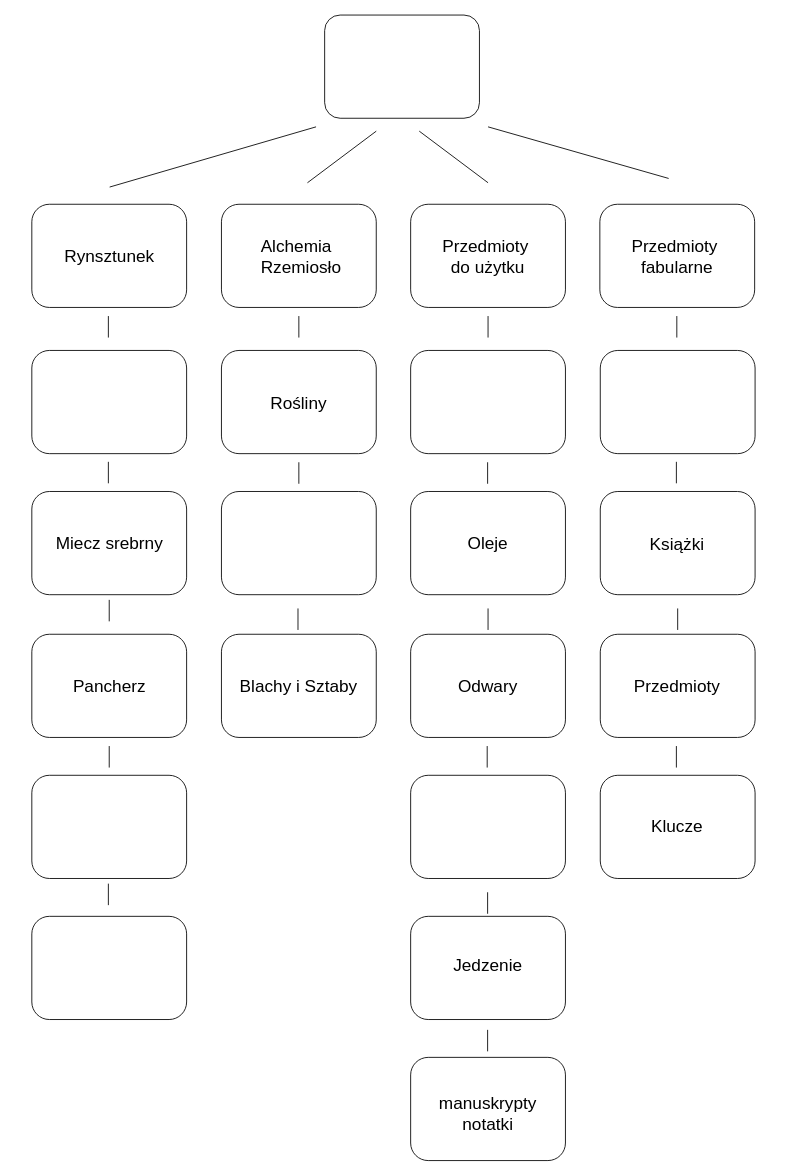
Some shapes in this 787 by 1176 pixel diagram are drawn without their labels. The shapes that lost their labels are listed below. From the top down, each one's centre as x and y in pixels, then its label:
At point (401, 66): "Witcher 3 Ekwipunek".
At point (109, 402): "Broń Stalowa".
At point (487, 402): "Eliksiry".
At point (677, 402): "Notatki".
At point (298, 543): "Fragmenty Potworów".
At point (109, 826): "Kusza".
At point (487, 826): "Petardy".
At point (109, 967): "Bełty".
